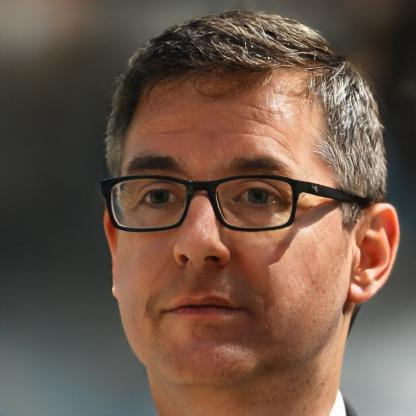eyeee: (124, 179, 187, 211), (226, 179, 290, 209)
mouthhz: (157, 292, 251, 319)
nosebb: (170, 192, 233, 272)
